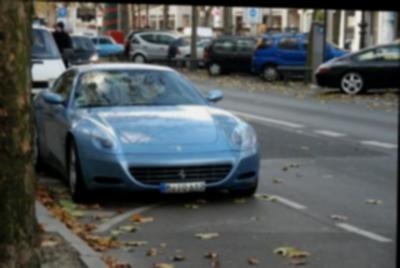License_Plate: (158, 183, 207, 193)
